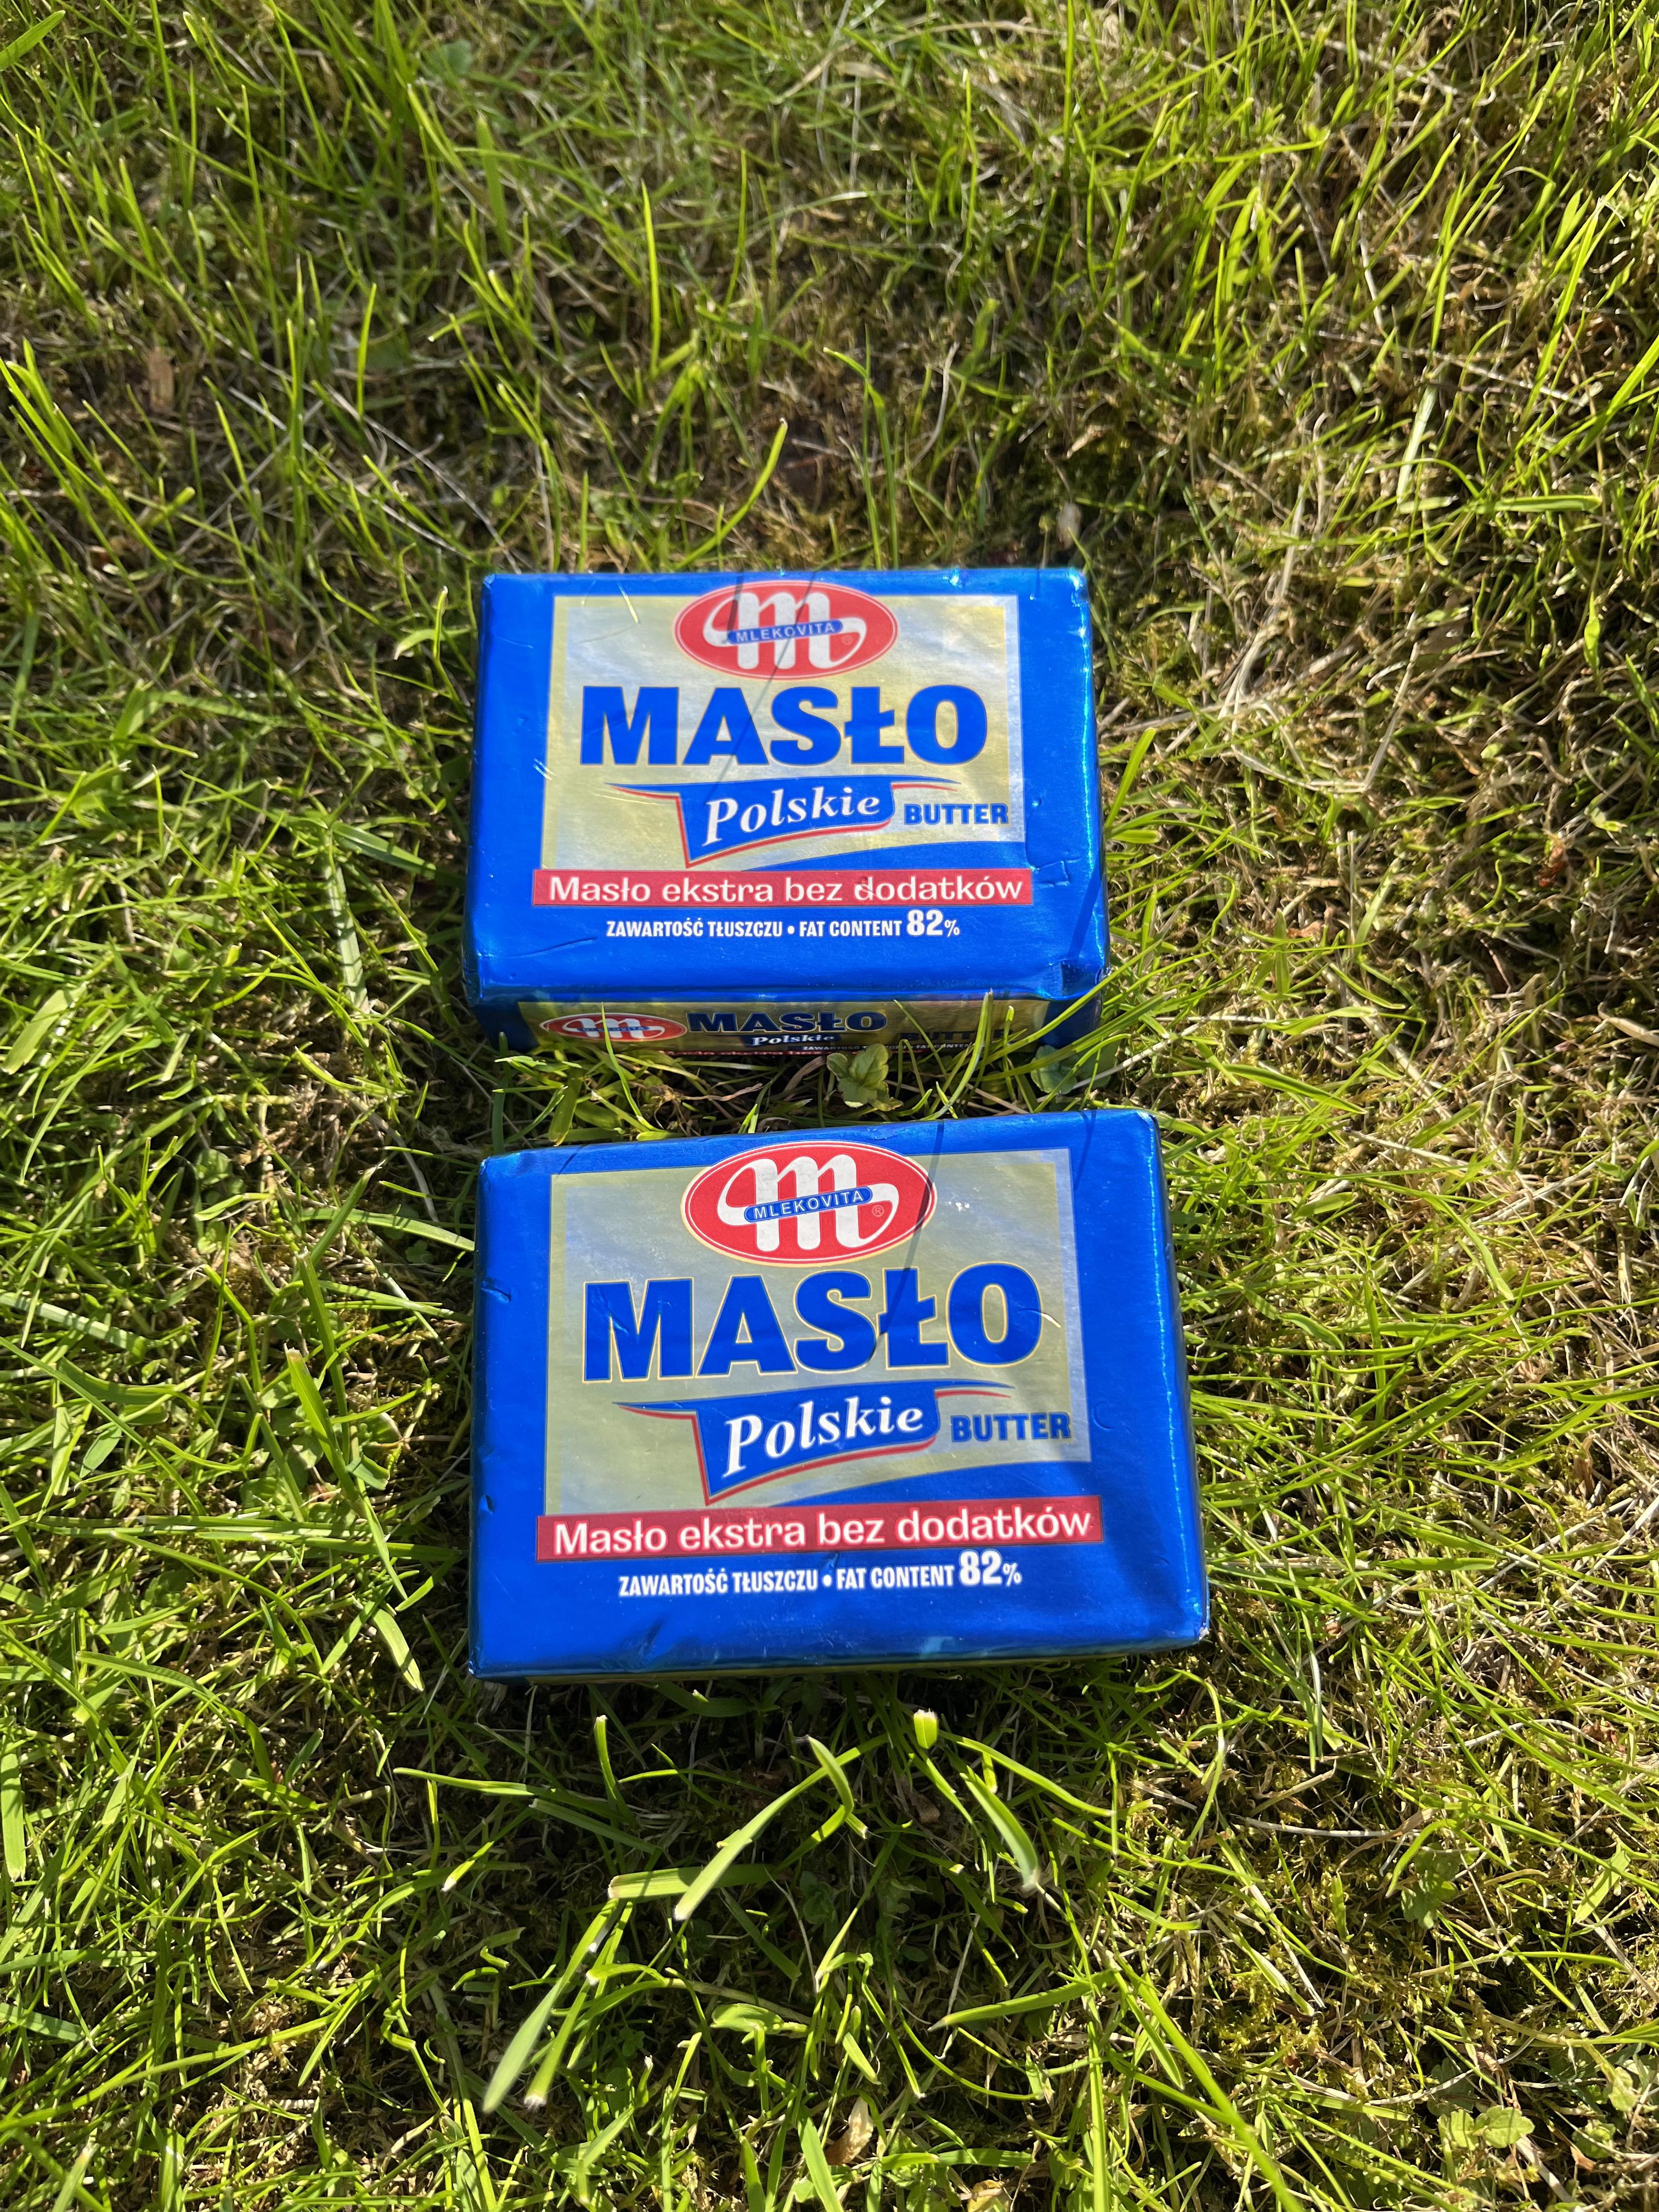Butter: (462, 1120, 1220, 1679), (467, 568, 1108, 1007)
